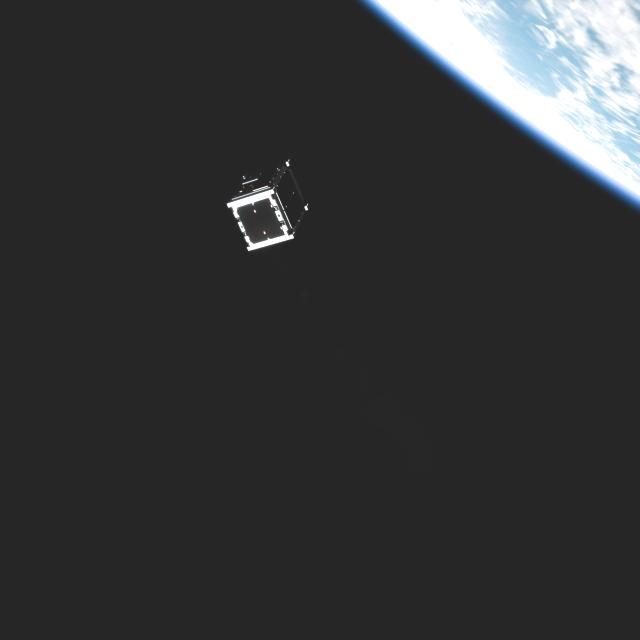satellite: (223, 154, 305, 252)
